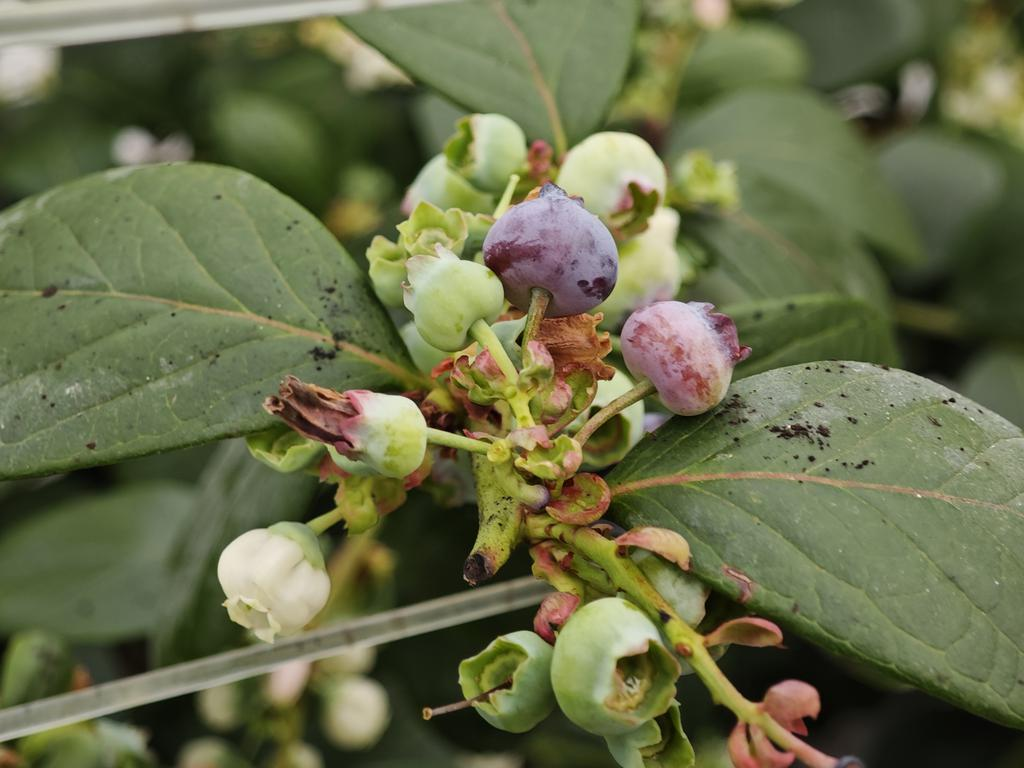RipeBlueBerry: (482, 184, 624, 315)
Semi-RipeBlueBerry: (615, 297, 745, 419)
UnripeBlueBerry: (545, 595, 683, 738)
